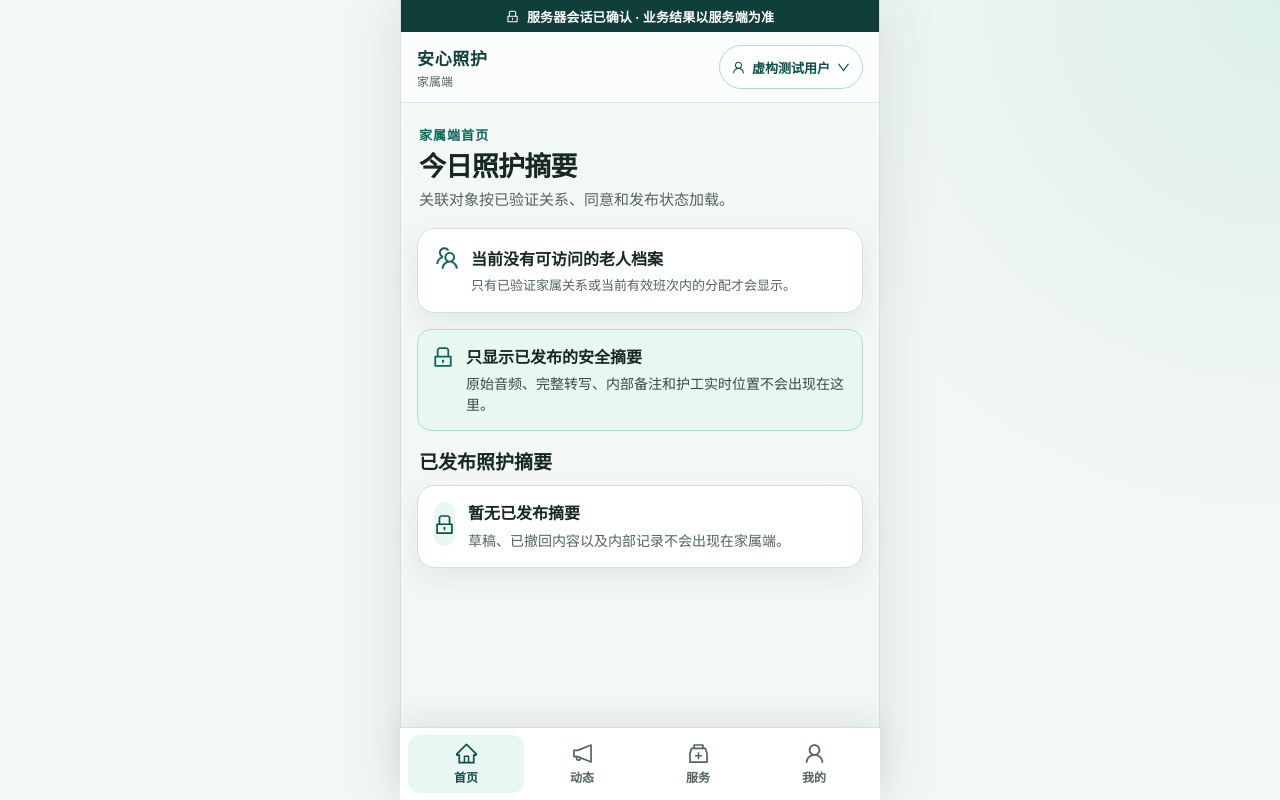
Test case: MobileExperience › keeps role-specific bottom navigation interactive
Click the button "服务" at x=698, y=764, box [640,735,756,793]
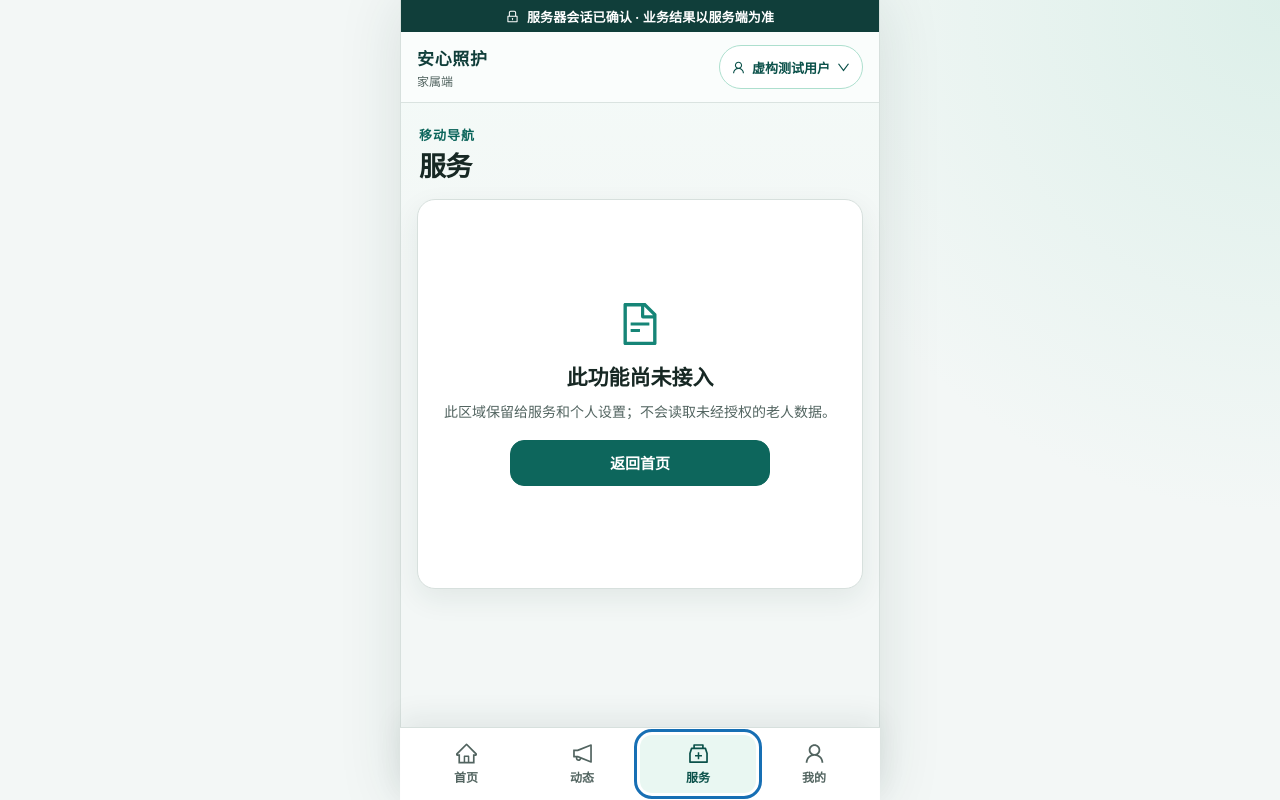
Check: the heading "服务" is shown, box [419,151,472,183]
Check: the text "此区域保留给服务和个人设置；不会读取未经授权的老人数据。" is shown, box [444,401,836,424]
